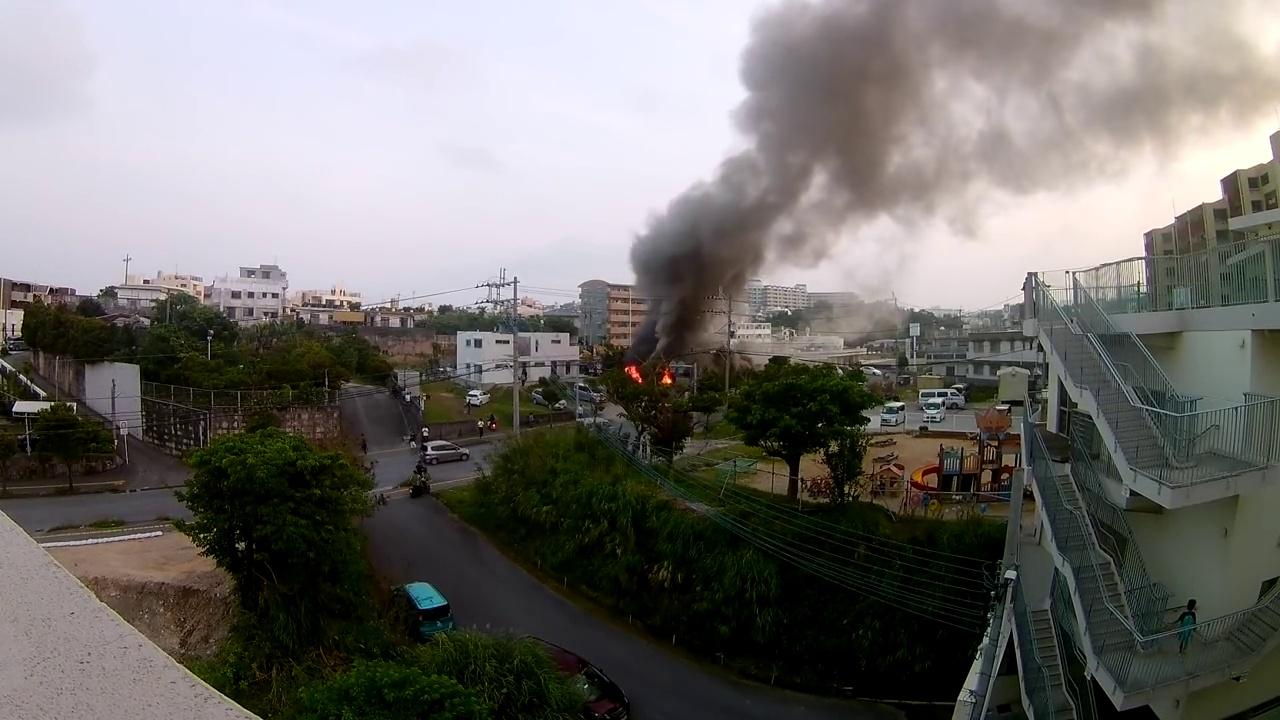smoke: (757, 37, 957, 183), (666, 196, 761, 284)
